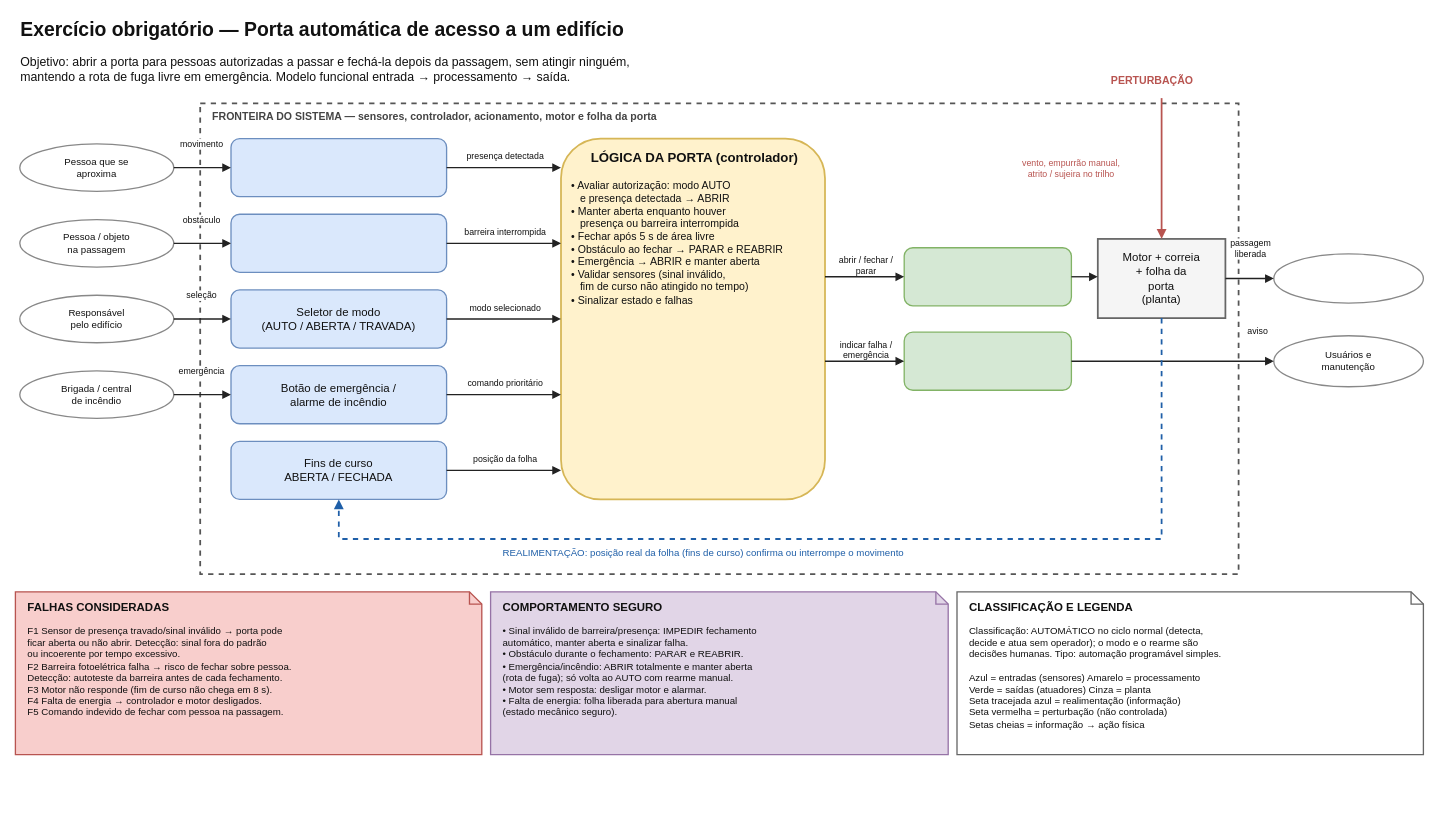
This 1440x828 diagram has some shape labels left out. Here are the shapes that lost their labels. From the top down, the centre of each, then its label:
the point at 338,167: Sensor de presença (radar externo/interno)
the point at 338,243: Barreira fotoelétrica na passagem
the point at 987,276: Acionamento do motor (driver)
the point at 1348,278: Pessoa passa
the point at 987,361: Sinalização (LED + sonoro)
